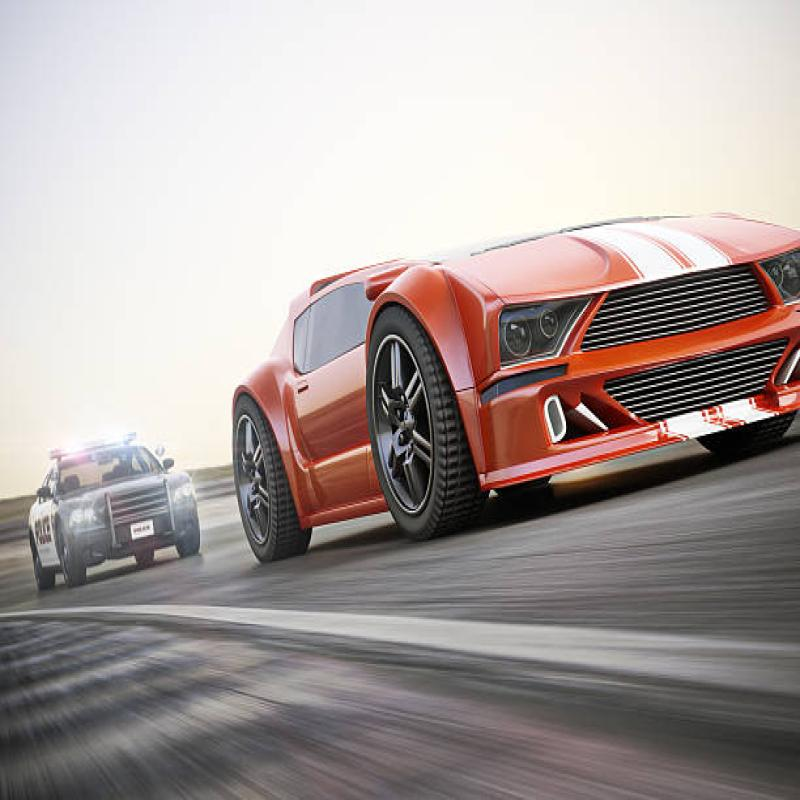car: (234, 211, 795, 445)
